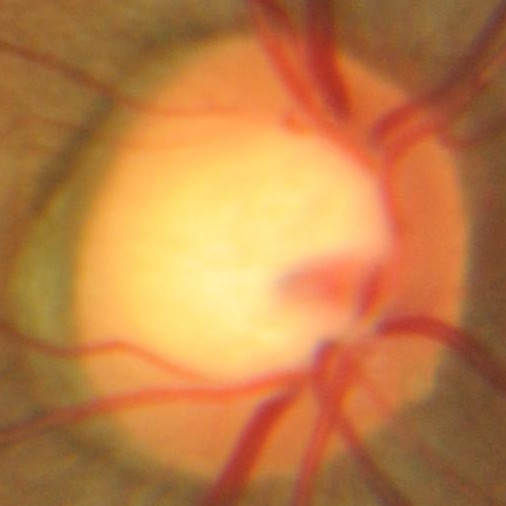Glaucoma section-1: (157, 142, 374, 364)
Glaucoma section-2: (75, 34, 467, 480)
